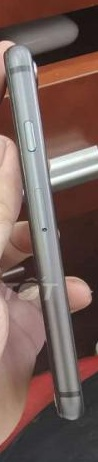scratch: (0, 37, 94, 431)
